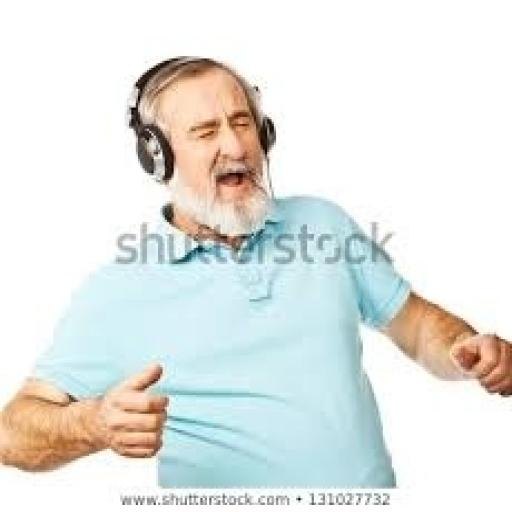listening_to_music: (0, 52, 510, 488), (122, 54, 278, 187)
